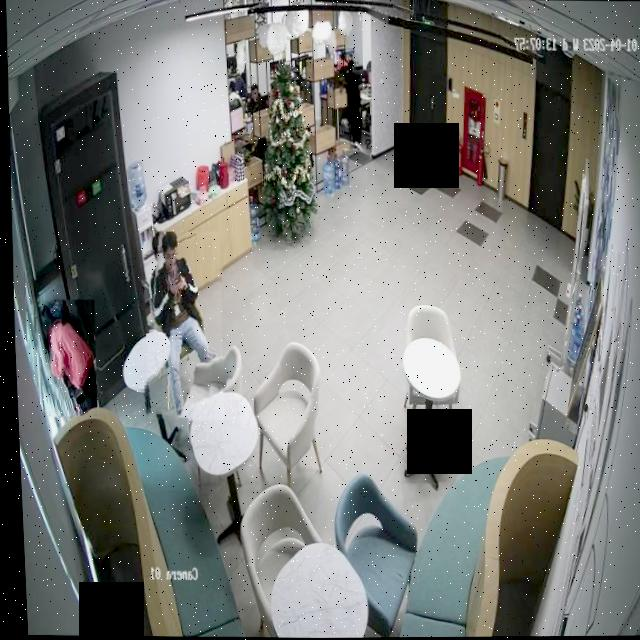person: (138, 231, 223, 421), (38, 299, 95, 417), (336, 53, 362, 151)
